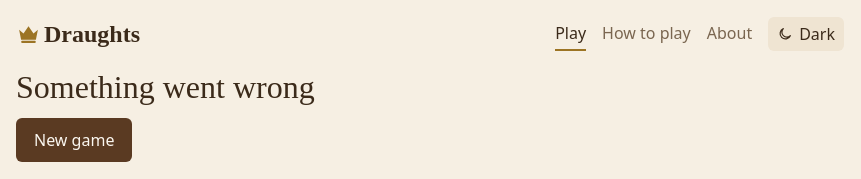
Scenario: the page error boundary › draws a page again when the player comes back to it
Expected: the heading "Something went wrong" is shown, [16, 69, 315, 105]
Click the link "About" at (730, 34), box [707, 17, 752, 51]
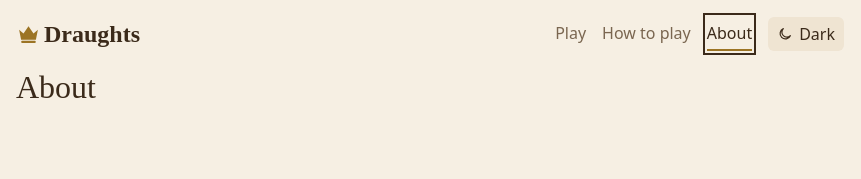
Click the link "Play" at (571, 34), box [555, 17, 586, 51]
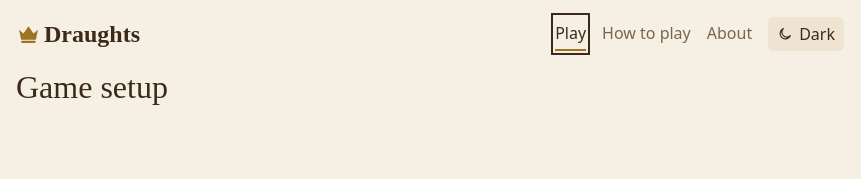
Expected: the heading "Game setup" is shown, [16, 69, 168, 105]
